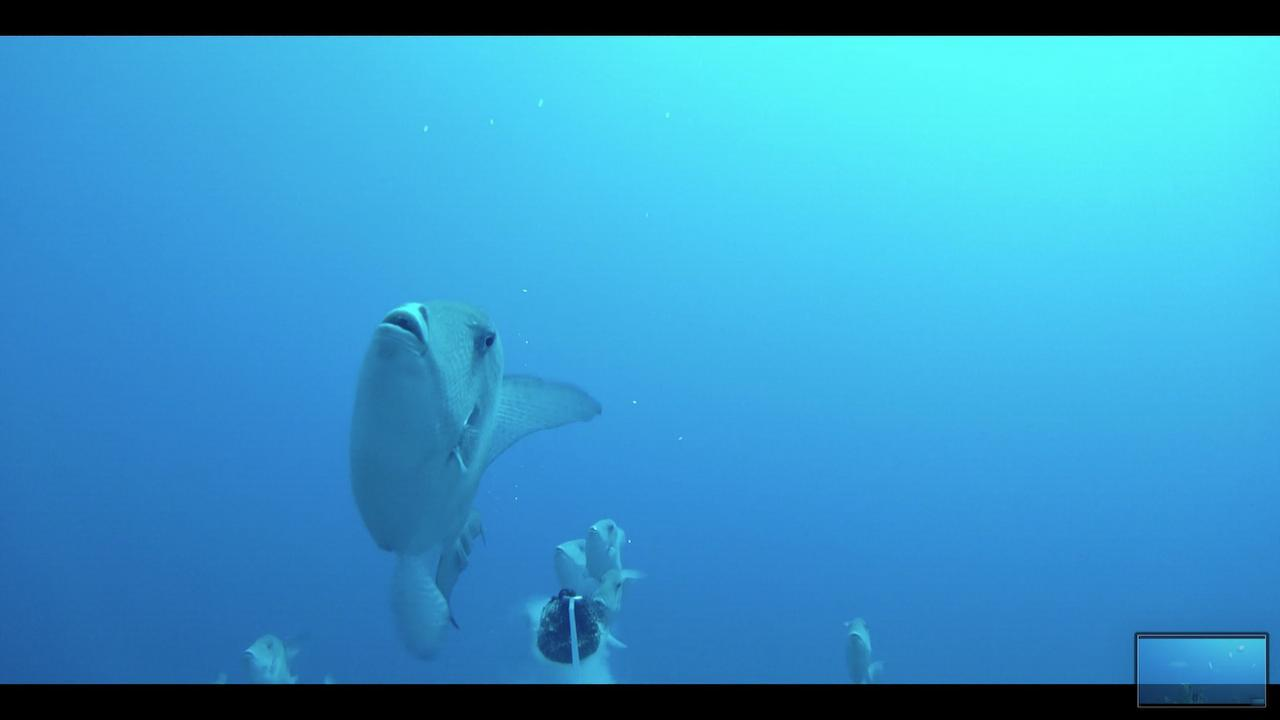balistes: (339, 293, 603, 660), (579, 516, 652, 590), (239, 615, 309, 682), (551, 530, 597, 599), (837, 611, 871, 681), (593, 564, 623, 627)
